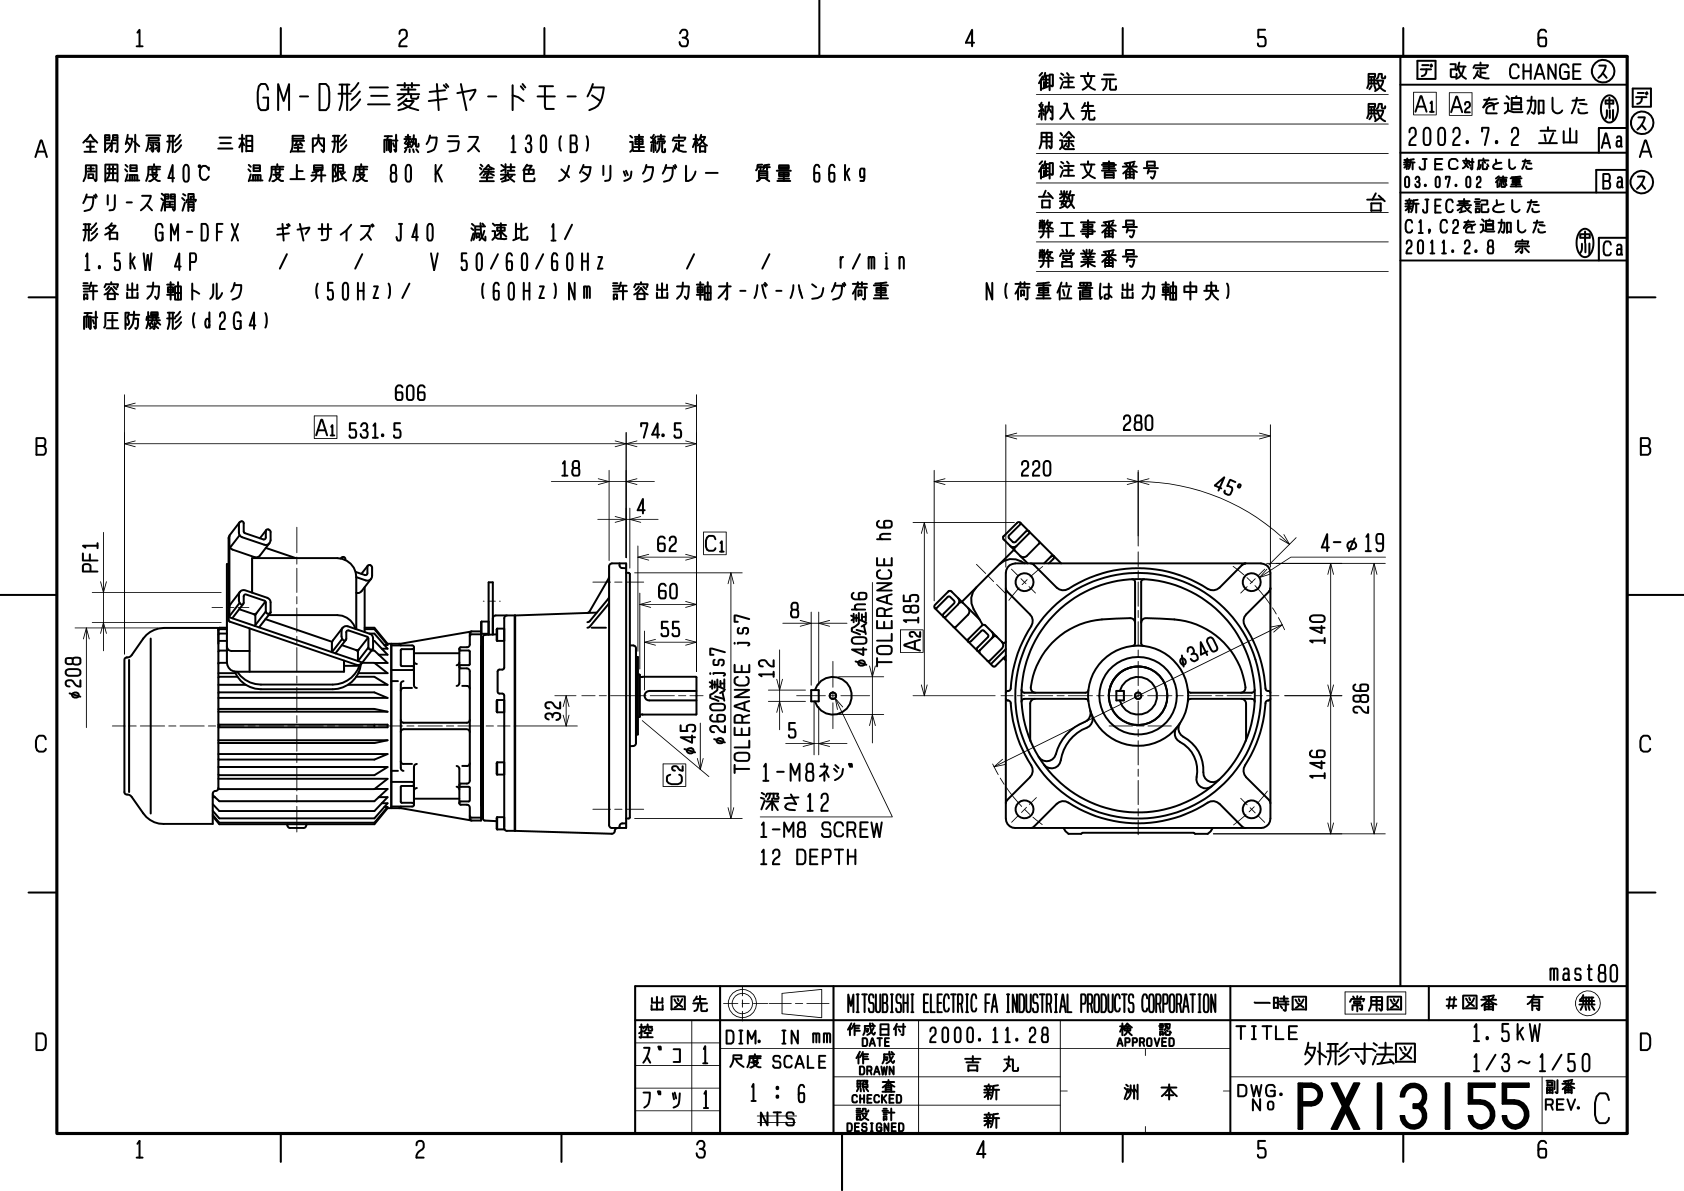GM_SP_屋内＿三相_フランジ: (63, 373, 1393, 922)
